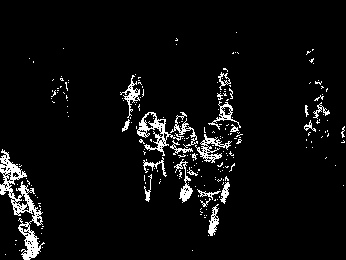person: (1, 150, 43, 257), (195, 123, 222, 233), (137, 111, 167, 202), (171, 112, 193, 201), (215, 105, 242, 167), (121, 72, 145, 129), (215, 65, 236, 99)
